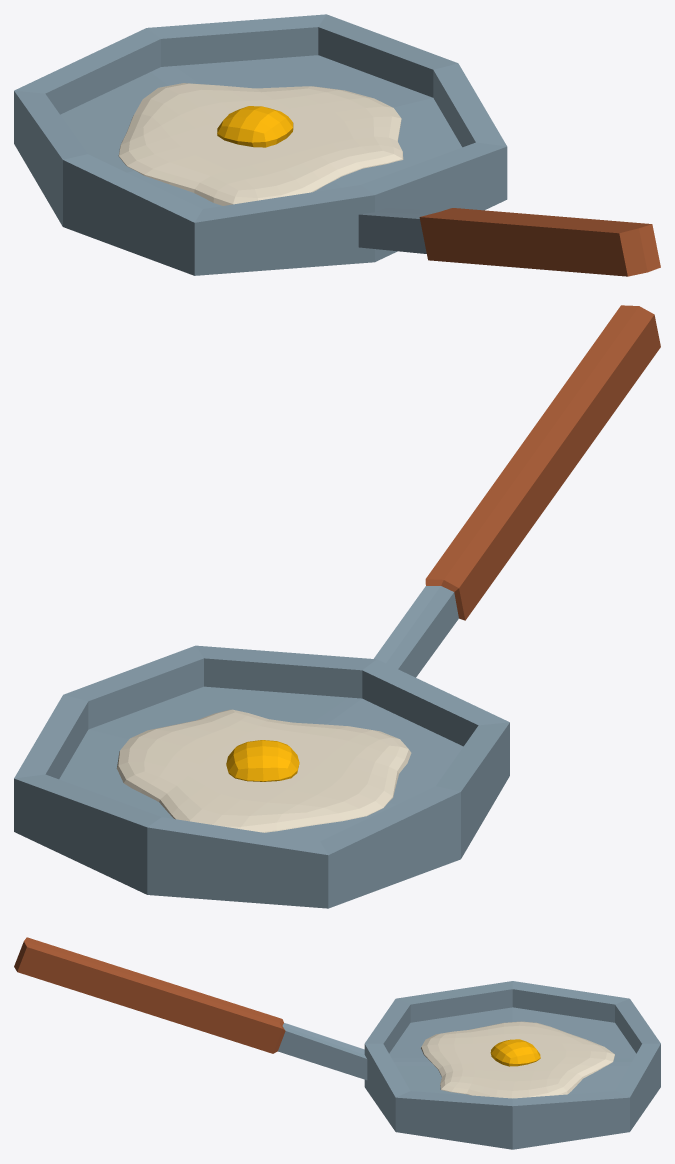
File: Spiegelei.fbx
3 views of the same model, one above another, from view 1: azimuth 30°, elevation 25°; view 2: azimuth 150°, elevation 25°; view 3: azimuth 270°, elevation 25° (orthographic). The views are drawn at different scales.
Visible parts, largest first — view 1: Pfanne, Eiweß, Eigelb; view 2: Pfanne, Eiweß, Eigelb; view 3: Pfanne, Eiweß, Eigelb.
Part boxes in pixels (x1,y1,x2,y2): Pfanne: (14, 14, 660, 276); Eiweß: (118, 83, 403, 205); Eigelb: (217, 106, 293, 147); Pfanne: (14, 305, 660, 908); Eiweß: (116, 709, 411, 832); Eigelb: (226, 740, 299, 781); Pfanne: (14, 937, 660, 1149); Eiweß: (421, 1021, 614, 1098); Eigelb: (490, 1039, 540, 1066).
Bounding box in the file's own units: 69.58 × 37.95 × 152.
